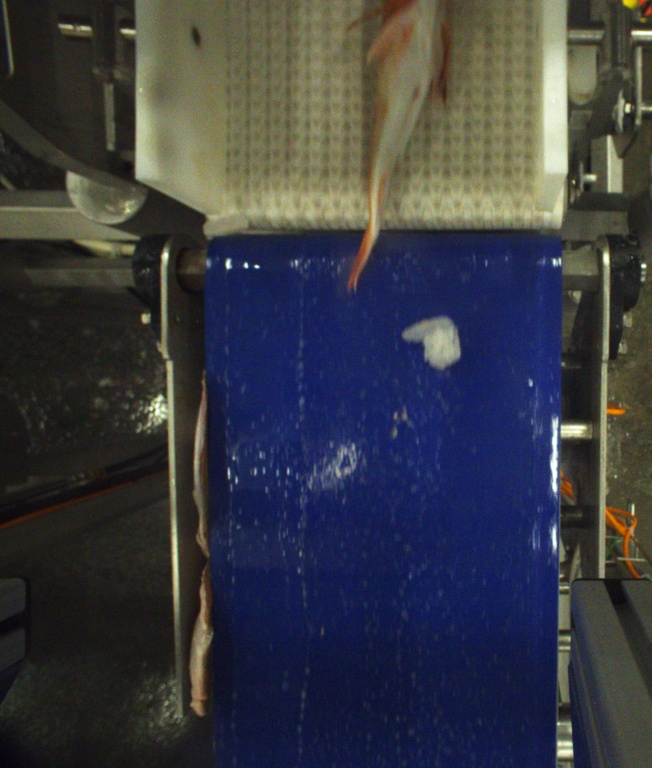GUU: (342, 0, 451, 292)
